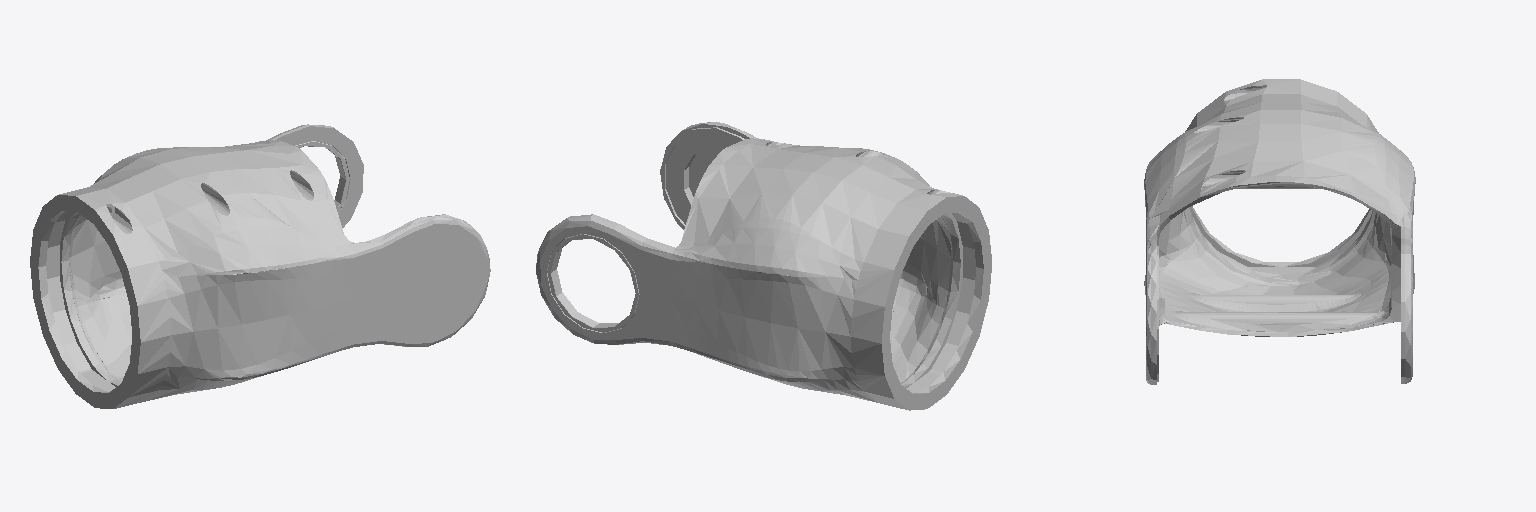
Rendered from arml_t56.obj.
3 renders of one model, left to right at view 1: azimuth 30°, elevation 25°; view 2: azimuth 150°, elevation 25°; view 3: azimuth 270°, elevation 25°, orthographic.
Size of the model in its own units: 0.221 by 0.1304 by 0.153.